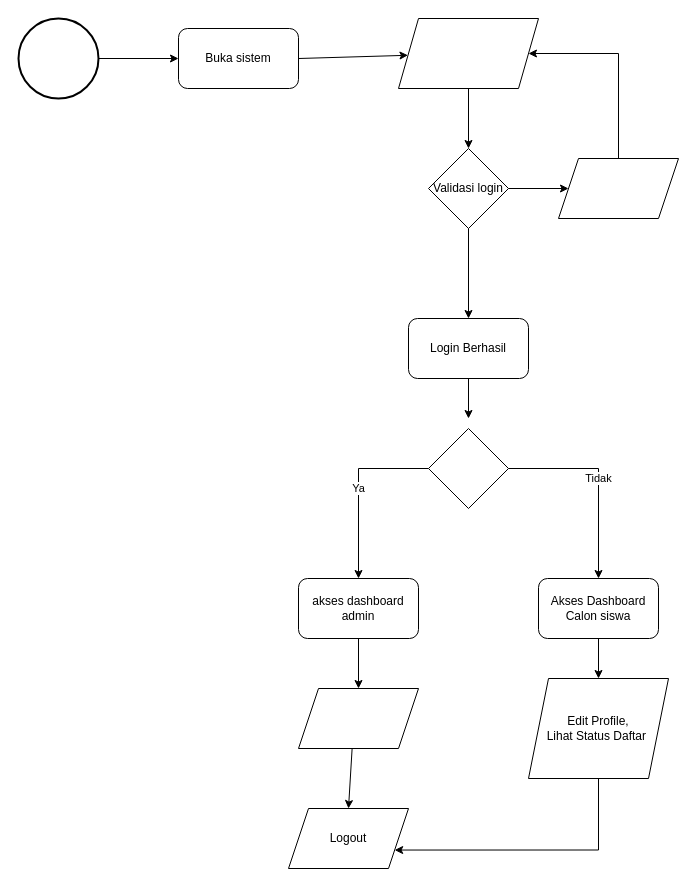
The diagram is 696 pixels wide and 886 high, and some of its shapes have lost their labels. The centre of each missing label's shape, as x and y in pixels:
Apakah pengguna admin?: the point at 468,468
Kelola pengguna (Verifikasi, Hapus): the point at 358,718
Login Gagal: the point at 618,188
Masukan username & password: the point at 468,53
